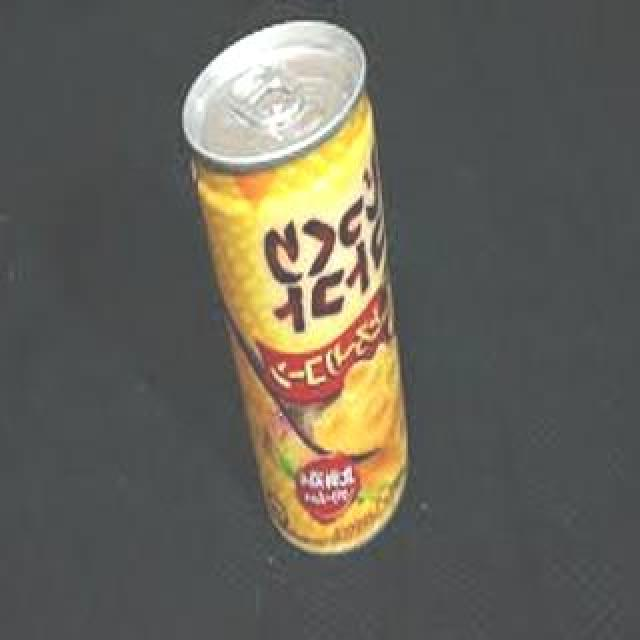Can: (181, 18, 413, 558)
